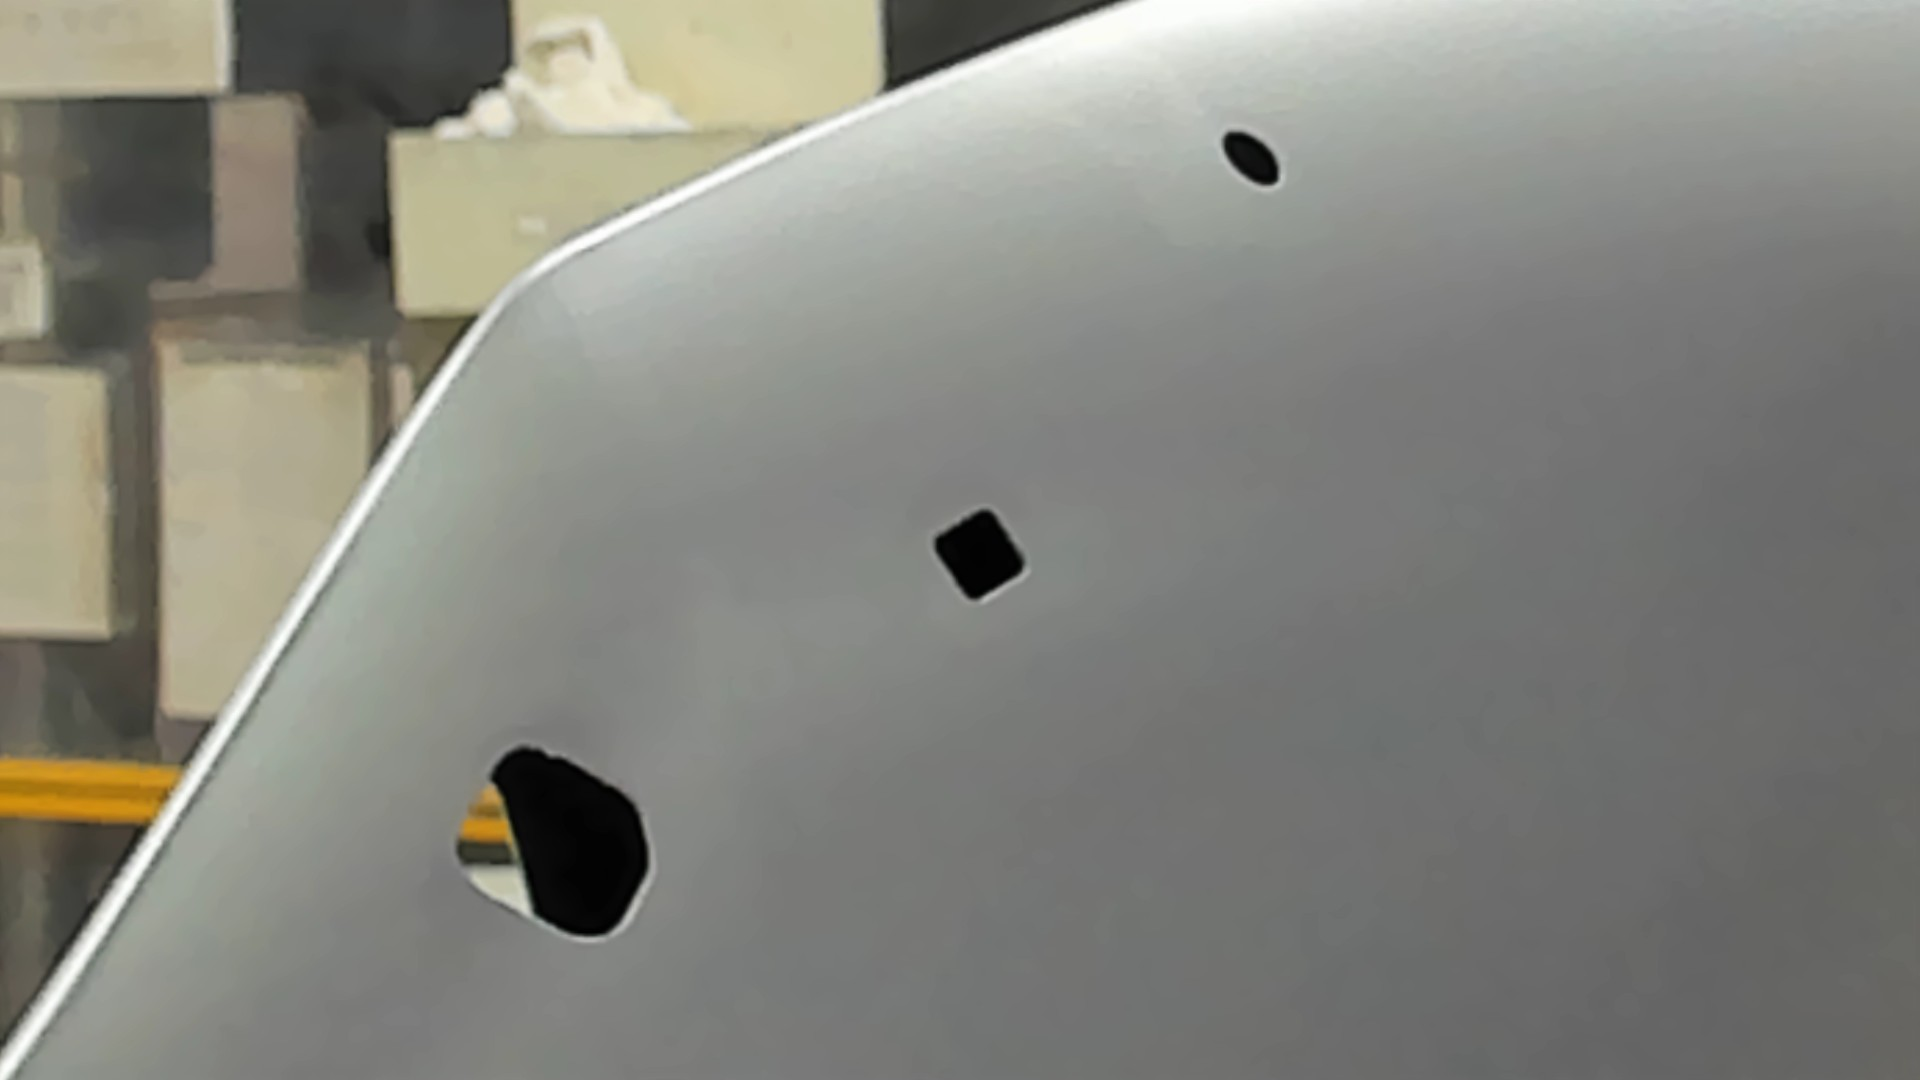chico: (1218, 124, 1286, 193)
grande: (448, 741, 659, 948)
mediano: (931, 502, 1031, 604)
